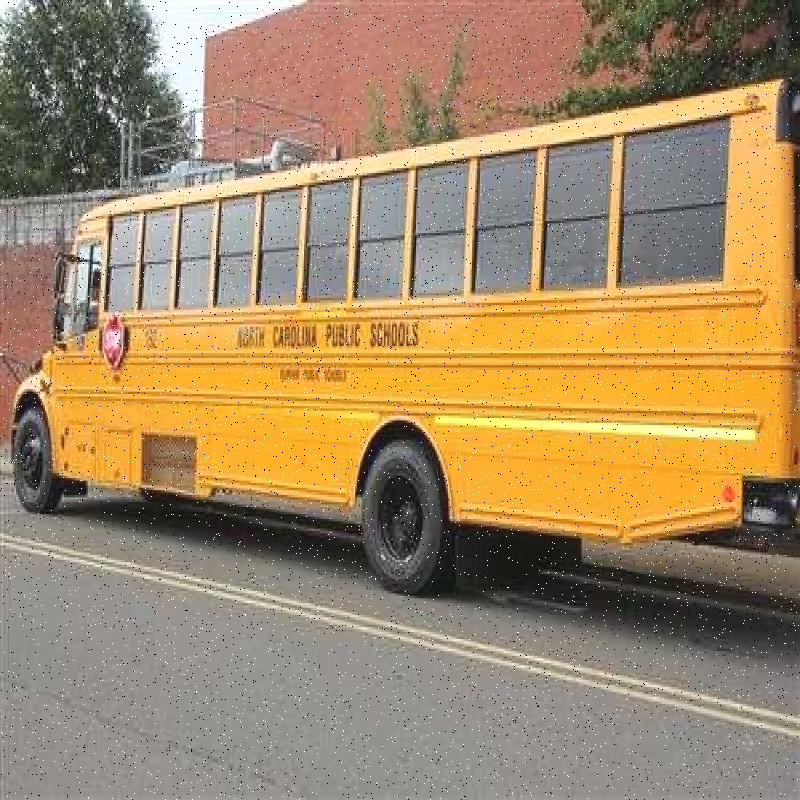bus: (29, 143, 800, 616)
